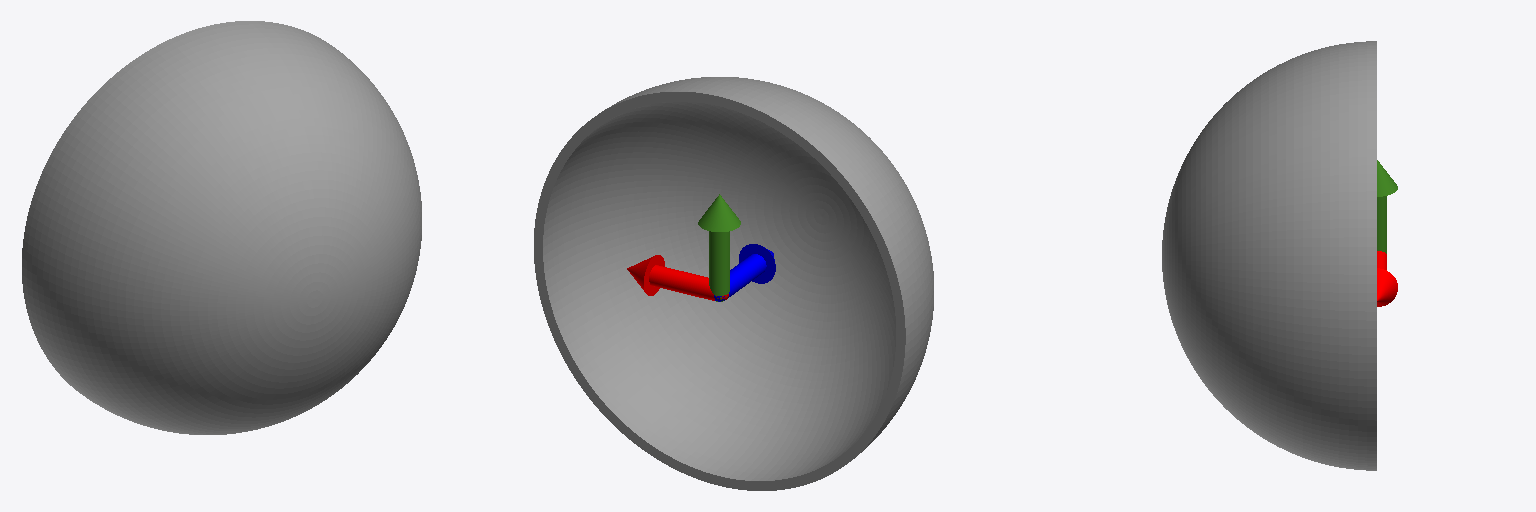
Rendered from semisphere_with_frame.obj.
3 views of the same model, side by side, from view 1: azimuth 30°, elevation 25°; view 2: azimuth 150°, elevation 25°; view 3: azimuth 270°, elevation 25° (orthographic).
Visible parts, largest first — view 1: mesh12; view 2: mesh14, mesh12, mesh13, mesh1, mesh5, mesh7, mesh9, mesh10; view 3: mesh12, mesh3, mesh5.
Boxes of the visible parts, <box> form: mesh12: <box>22,21,421,434</box>; mesh14: <box>543,102,895,480</box>; mesh12: <box>599,77,933,458</box>; mesh13: <box>534,92,905,490</box>; mesh1: <box>649,265,714,300</box>; mesh5: <box>709,231,729,295</box>; mesh7: <box>698,194,740,231</box>; mesh9: <box>728,254,766,297</box>; mesh10: <box>739,244,775,283</box>; mesh12: <box>1162,41,1376,470</box>; mesh3: <box>1377,268,1397,306</box>; mesh5: <box>1377,196,1386,253</box>.
Size of the model in its own units: 0.2 by 0.2 by 0.11.